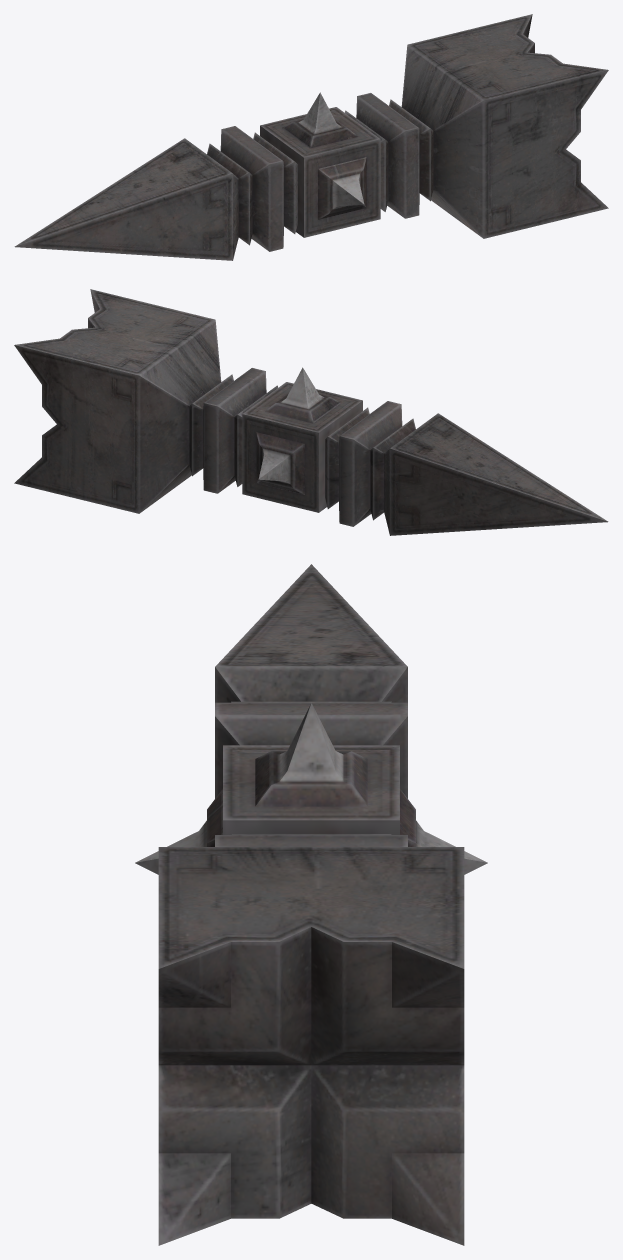
File: sm_dwarf_iron_mattock_blade_a.fbx
3 views of the same model, one above another, from view 1: azimuth 30°, elevation 25°; view 2: azimuth 150°, elevation 25°; view 3: azimuth 270°, elevation 25° (orthographic). The views are drawn at different scales.
Parts seen in each view (by area): view 1: sm_dwarf_iron_mattock_blade_a; view 2: sm_dwarf_iron_mattock_blade_a; view 3: sm_dwarf_iron_mattock_blade_a.
Boxes of the visible parts, left/top/right/bottom form: sm_dwarf_iron_mattock_blade_a: left=14, top=14, right=608, bottom=260; sm_dwarf_iron_mattock_blade_a: left=14, top=289, right=608, bottom=535; sm_dwarf_iron_mattock_blade_a: left=135, top=564, right=487, bottom=1245.
Bounding box in the file's own units: 0.8 × 0.22 × 0.205.
1 material, 1 textured.
